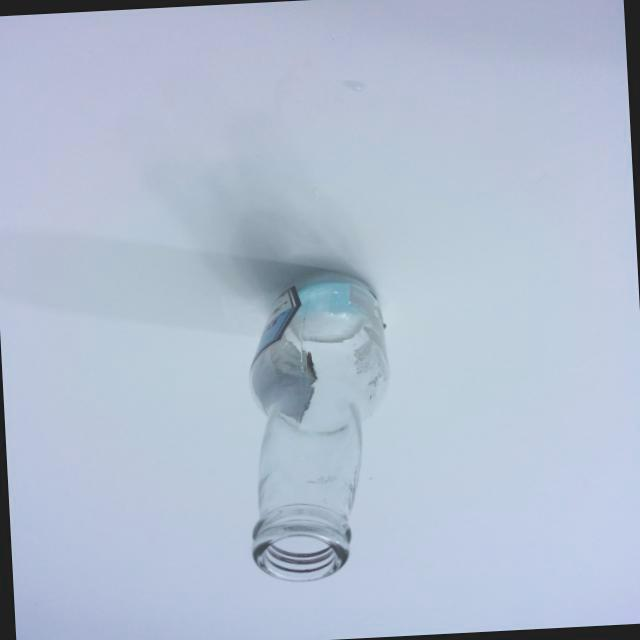glass: (200, 259, 406, 604)
